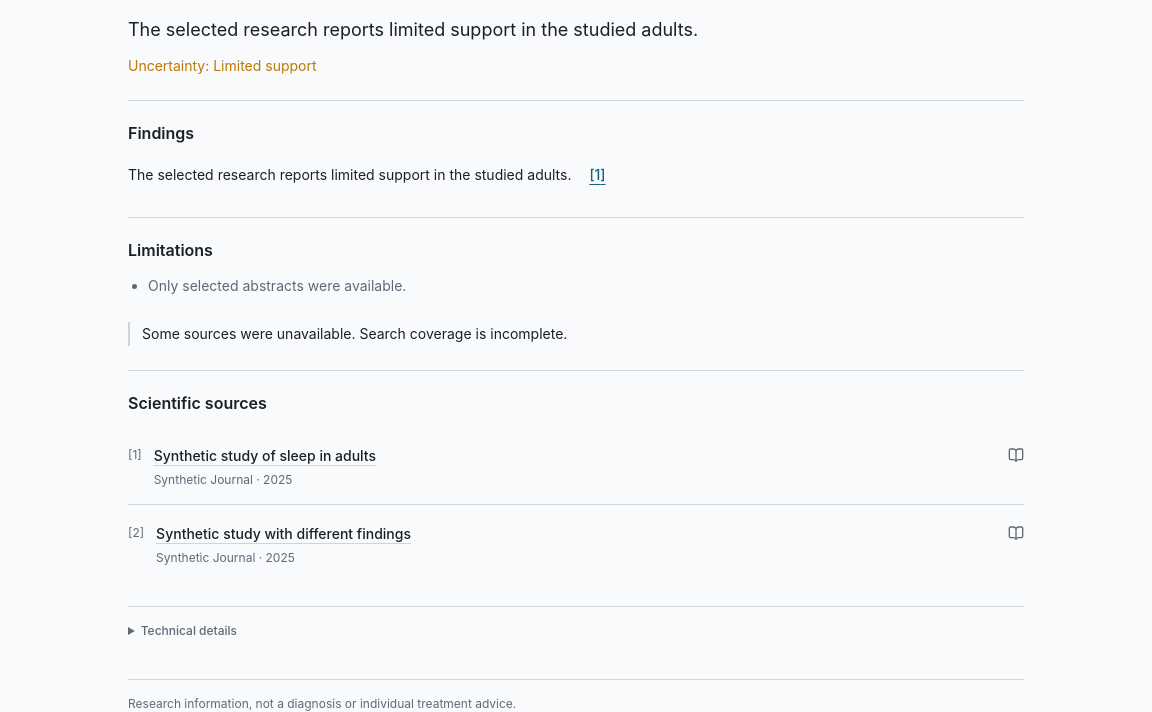
Test case: Quick result presentation › shows incomplete coverage without exposing private provider errors
(page scrolled)
Expected: the text "Some sources were unavailable. Search coverage is incomplete." is shown, top-left (128, 322), bottom-right (1024, 346)
Click the heading "Technical details" at {"x": 189, "y": 631}, box top-left (141, 623), bottom-right (237, 638)
(page scrolled)
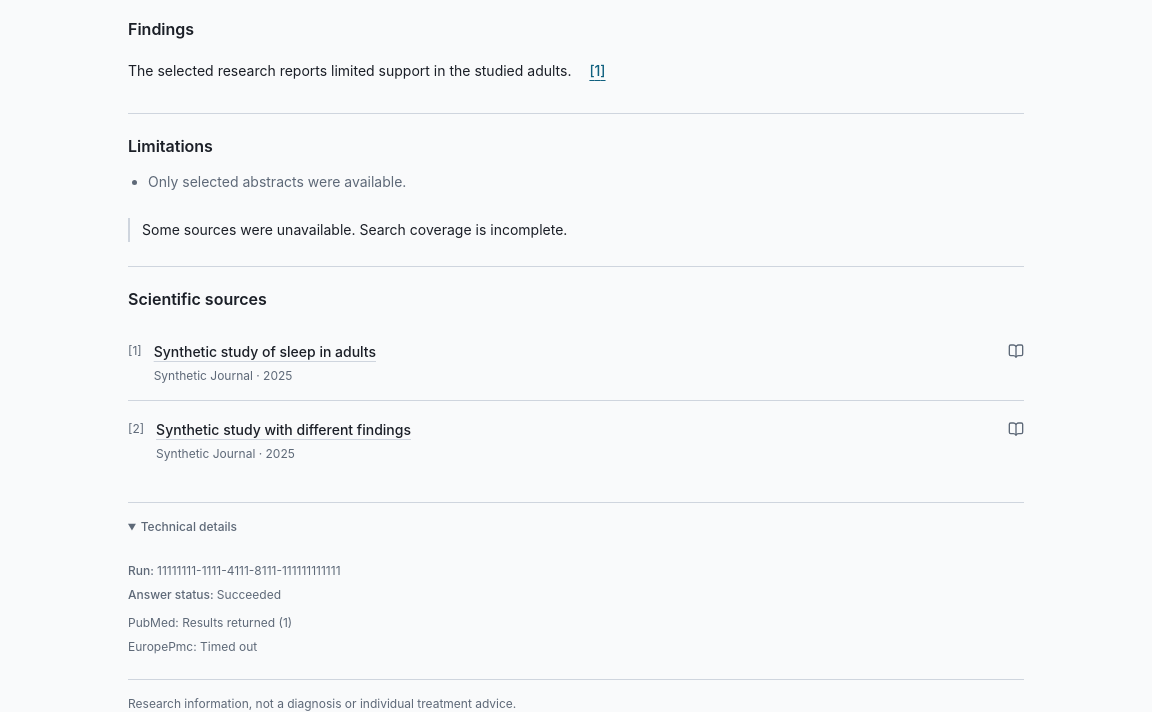
Now the list item "EuropePmc: Timed out" is shown, box top-left (128, 639), bottom-right (257, 654)
